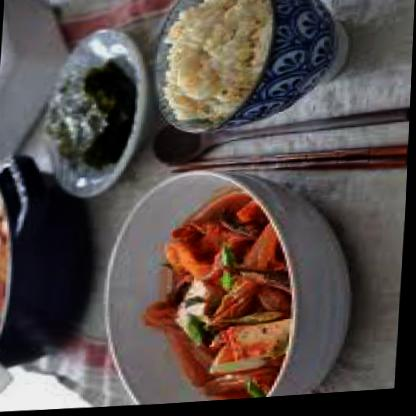Kimchi: (129, 187, 339, 408)
rice ball: (151, 0, 294, 129)
seaweed soup: (43, 62, 141, 180)
